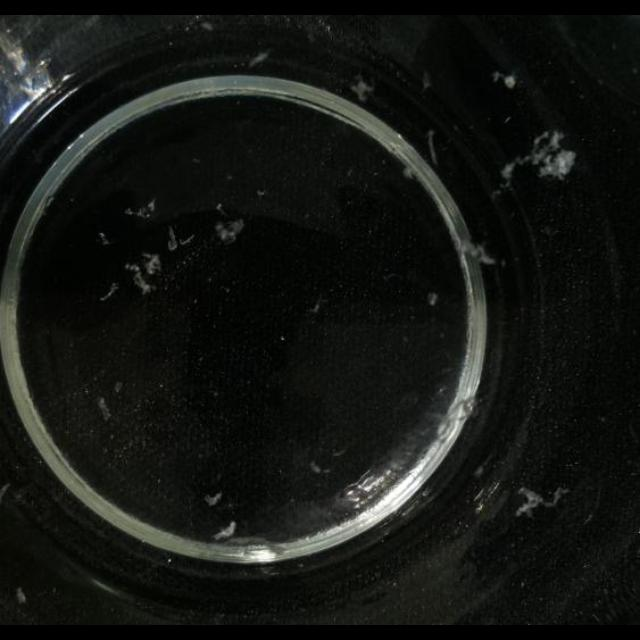Fibre: (505, 126, 575, 186), (515, 486, 567, 518), (124, 258, 158, 296), (462, 240, 498, 268), (213, 219, 245, 247), (125, 198, 157, 220), (348, 76, 374, 102), (140, 252, 162, 276), (96, 396, 114, 422), (100, 283, 118, 301), (248, 52, 268, 68), (166, 227, 178, 251), (0, 482, 12, 506), (422, 70, 434, 90), (308, 298, 322, 314), (97, 232, 111, 246), (216, 202, 227, 214)
microbeads: (213, 520, 237, 540), (494, 70, 516, 90), (204, 493, 222, 507), (426, 292, 438, 308), (16, 588, 28, 604)
